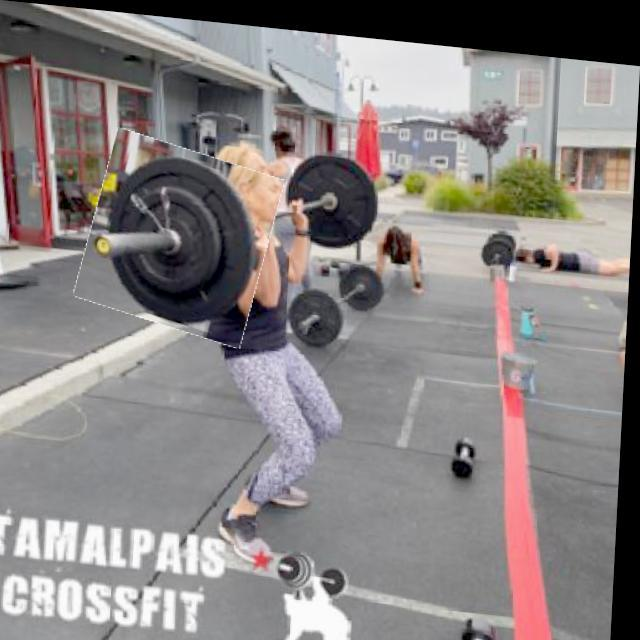barbell: (84, 132, 280, 339)
